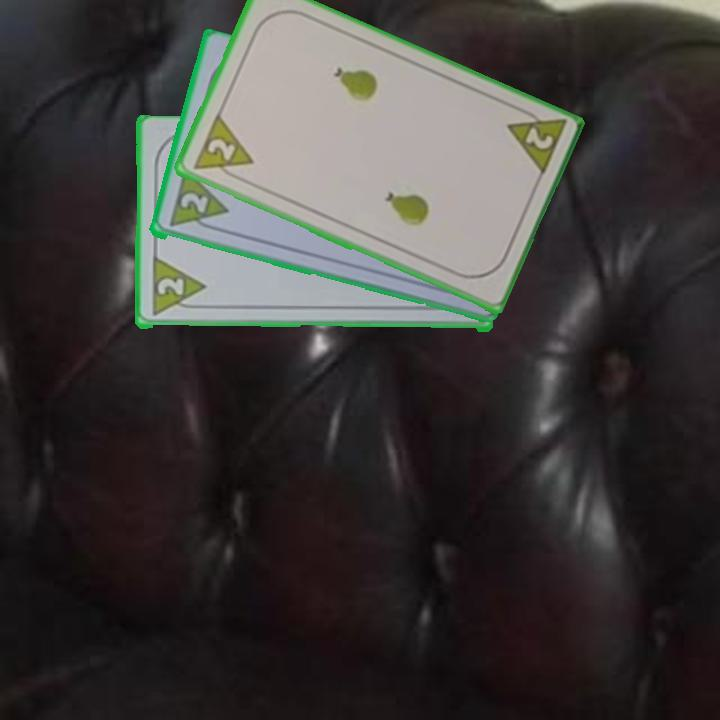2p: (502, 105, 568, 181), (189, 112, 256, 186), (164, 168, 230, 236), (153, 274, 186, 299)
